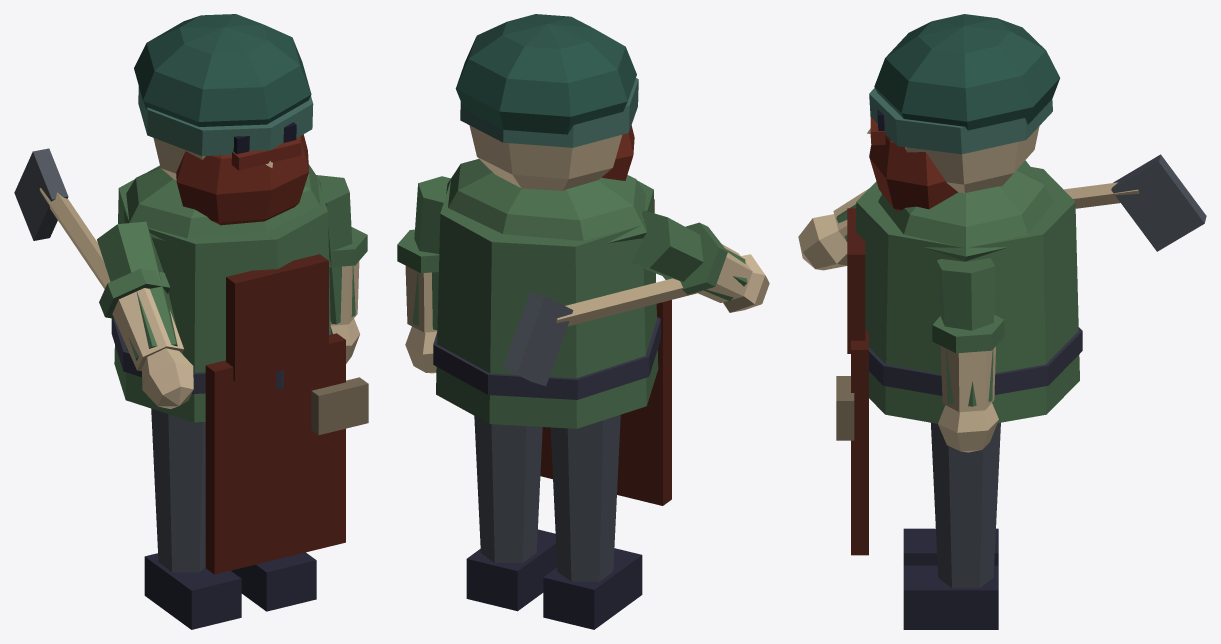
The model's file is bram.glb.
The picture shows the model from 3 angles, left to right: view 1: azimuth 30°, elevation 25°; view 2: azimuth 150°, elevation 25°; view 3: azimuth 270°, elevation 25°; orthographic projection. The views are drawn at different scales.
Visible parts, largest first — view 1: Torso, Head, ArmR, LegR, ArmL, LegL; view 2: Torso, Head, LegR, ArmR, LegL, ArmL; view 3: Torso, Head, LegL, ArmL, ArmR, LegR.
Boxes of the visible parts, x1=… form: Torso: x1=111, y1=164, x2=368, y2=574; Head: x1=134, y1=14, x2=313, y2=225; ArmR: x1=14, y1=148, x2=193, y2=409; LegR: x1=144, y1=408, x2=241, y2=629; ArmL: x1=316, y1=175, x2=367, y2=363; LegL: x1=231, y1=552, x2=316, y2=611; Torso: x1=433, y1=159, x2=671, y2=505; Head: x1=455, y1=14, x2=638, y2=190; LegR: x1=543, y1=415, x2=642, y2=629; ArmR: x1=503, y1=210, x2=769, y2=385; LegL: x1=466, y1=416, x2=557, y2=611; ArmL: x1=397, y1=176, x2=450, y2=373; Torso: x1=836, y1=160, x2=1082, y2=555; Head: x1=867, y1=14, x2=1059, y2=211; LegL: x1=903, y1=422, x2=1000, y2=629; ArmL: x1=932, y1=258, x2=1004, y2=452; ArmR: x1=798, y1=154, x2=1206, y2=270; LegR: x1=903, y1=528, x2=998, y2=565.
Bounding box in the file's own units: 0.906 × 1.73 × 1.12.
